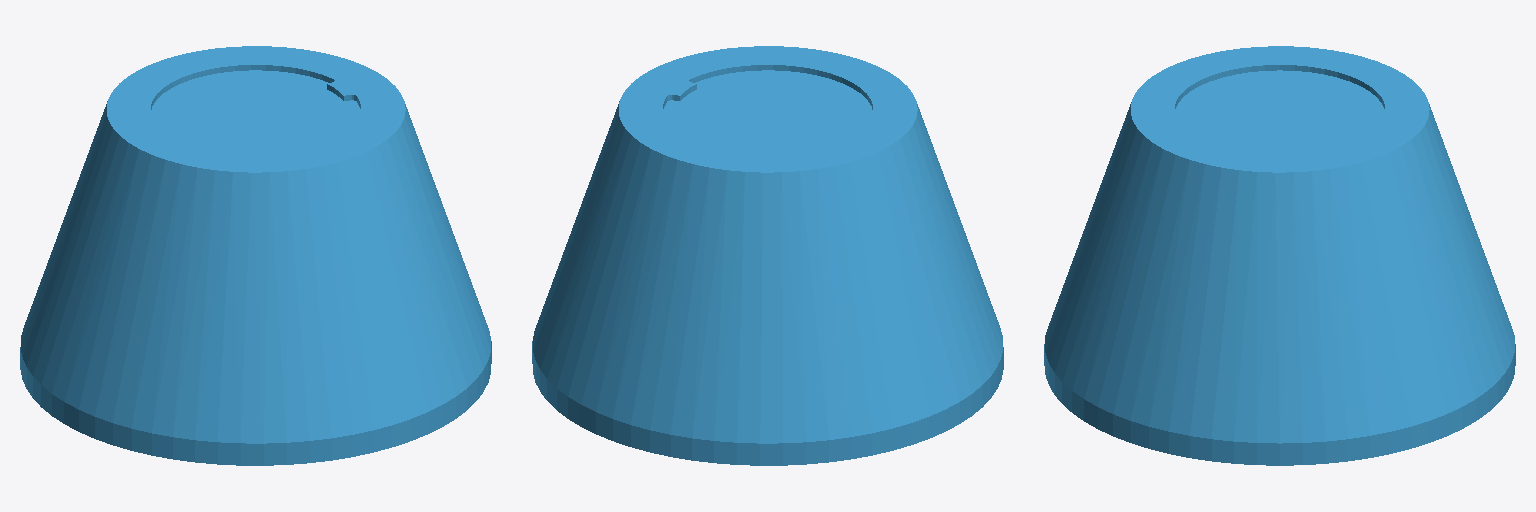
URDF robot description (swingarm_v1):
<?xml version="1.0" ?>
<!-- =================================================================================== -->
<!-- |    This document was autogenerated by xacro from robot.xacro                    | -->
<!-- |    EDITING THIS FILE BY HAND IS NOT RECOMMENDED                                 | -->
<!-- =================================================================================== -->
<robot name="swingarm_v1">
  <link name="world"/>
  <link name="base_link">
    <inertial>
      <origin rpy="0 0 0" xyz="0.00006 -0.000046 0.0129"/>
      <mass value="6.722526"/>
      <inertia ixx="0.049640000000000004" ixy="-6.571312e-06" ixz="-9.063940000000001e-07" iyy="0.03882" iyz="2.1181100000000002e-07" izz="0.08303"/>
    </inertial>
    <visual>
      <origin rpy="0 0 0" xyz="0 0 0"/>
      <geometry>
        <mesh filename="package://swingarm_v1_config/description/meshes/base_link.stl" scale="1 1 1"/>
      </geometry>
    </visual>
    <collision>
      <origin rpy="0 0 0" xyz="0 0 0"/>
      <geometry>
        <mesh filename="package://swingarm_v1_config/description/meshes/base_link.stl" scale="1 1 1"/>
      </geometry>
    </collision>
  </link>
  <link name="link1">
    <inertial>
      <origin rpy="0 0 0" xyz="0.000002 -0.00531 0.034685"/>
      <mass value="1.103721"/>
      <inertia ixx="0.0005726" ixy="-5.4105e-08" ixz="-3.821000000000001e-09" iyy="0.0004953000000000001" iyz="1.2915759e-05" izz="0.0005383"/>
    </inertial>
    <visual>
      <origin rpy="0 0 0" xyz="0 0 0"/>
      <geometry>
        <mesh filename="package://swingarm_v1_config/description/meshes/link1.stl" scale="1 1 1"/>
      </geometry>
    </visual>
    <collision>
      <origin rpy="0 0 0" xyz="0 0 0"/>
      <geometry>
        <mesh filename="package://swingarm_v1_config/description/meshes/link1.stl" scale="1 1 1"/>
      </geometry>
    </collision>
  </link>
  <link name="link2">
    <inertial>
      <origin rpy="0 0 0" xyz="-0.197351 -0.002165 0.000057"/>
      <mass value="0.534276"/>
      <inertia ixx="0.0003837" ixy="-2.6179433000000002e-05" ixz="6.93218e-07" iyy="0.0018880000000000001" iyz="-5.850180000000001e-07" izz="0.00205"/>
    </inertial>
    <visual>
      <origin rpy="0 0 0" xyz="0 0 0"/>
      <geometry>
        <mesh filename="package://swingarm_v1_config/description/meshes/link2.stl" scale="1 1 1"/>
      </geometry>
    </visual>
    <collision>
      <origin rpy="0 0 0" xyz="0 0 0"/>
      <geometry>
        <mesh filename="package://swingarm_v1_config/description/meshes/link2.stl" scale="1 1 1"/>
      </geometry>
    </collision>
  </link>
  <link name="link3">
    <inertial>
      <origin rpy="0 0 0" xyz="0.191296 -0.001405 0.053882"/>
      <mass value="0.474451"/>
      <inertia ixx="0.00032290000000000004" ixy="8.650968000000002e-06" ixz="-0.00023170000000000002" iyy="0.002226" iyz="1.036356e-06" izz="0.002291"/>
    </inertial>
    <visual>
      <origin rpy="0 0 0" xyz="0 0 0"/>
      <geometry>
        <mesh filename="package://swingarm_v1_config/description/meshes/link3.stl" scale="1 1 1"/>
      </geometry>
    </visual>
    <collision>
      <origin rpy="0 0 0" xyz="0 0 0"/>
      <geometry>
        <mesh filename="package://swingarm_v1_config/description/meshes/link3.stl" scale="1 0.8 1"/>
      </geometry>
    </collision>
  </link>
  <link name="link4">
    <inertial>
      <origin rpy="0 0 0" xyz="0.02969 0.00192 0.03765"/>
      <mass value="0.1"/>
      <inertia ixx="1.2622460000000002e-06" ixy="3.261e-08" ixz="-5.533339999999999e-07" iyy="0.0001" iyz="4.118e-08" izz="9.75984e-07"/>
    </inertial>
    <visual>
      <origin rpy="0 0 0" xyz="0 0 0"/>
      <geometry>
        <mesh filename="package://swingarm_v1_config/description/meshes/link4.stl" scale="1 1 1"/>
      </geometry>
    </visual>
    <collision>
      <origin rpy="0 0 0" xyz="0 0 0"/>
      <geometry>
        <mesh filename="package://swingarm_v1_config/description/meshes/link4.stl" scale="1 1 1"/>
      </geometry>
    </collision>
  </link>
  <link name="link5">
    <inertial>
      <origin rpy="0 0 0" xyz="0.001992 -0.000088 -0.053421"/>
      <mass value="0.598593"/>
      <inertia ixx="0.0007354000000000001" ixy="-4.49048e-07" ixz="3.7386443e-05" iyy="0.0007328" iyz="-2.1004300000000002e-07" izz="0.0005"/>
    </inertial>
    <visual>
      <origin rpy="0 0 0" xyz="0 0 0"/>
      <geometry>
        <mesh filename="package://swingarm_v1_config/description/meshes/link5.stl" scale="1 1 1"/>
      </geometry>
    </visual>
    <collision>
      <origin rpy="0 0 0" xyz="0 0 0"/>
      <geometry>
        <mesh filename="package://swingarm_v1_config/description/meshes/link5.stl" scale="1 1 1"/>
      </geometry>
    </collision>
  </link>
  <link name="link6">
    <inertial>
      <origin rpy="0 0 0" xyz="0 0 0"/>
      <mass value="0.5"/>
      <inertia ixx="5e-05" ixy="-1.0680000000000001e-19" ixz="8.357e-08" iyy="8.414108000000002e-06" iyz="0.0" izz="6.931832000000001e-06"/>
    </inertial>
    <visual>
      <origin rpy="0 0 0" xyz="0 0 0"/>
      <geometry>
        <mesh filename="package://swingarm_v1_config/description/meshes/link6.stl" scale="1 1 1"/>
      </geometry>
    </visual>
    <collision>
      <origin rpy="0 0 0" xyz="0 0 0"/>
      <geometry>
        <mesh filename="package://swingarm_v1_config/description/meshes/link6.stl" scale="1 1 1"/>
      </geometry>
    </collision>
  </link>
  <joint name="fixed_world" type="fixed">
    <origin rpy="0 0 0" xyz="0 0 0"/>
    <parent link="world"/>
    <child link="base_link"/>
  </joint>
  <joint name="joint1" type="revolute">
    <origin rpy="0 0 0" xyz="0 0 0.07925"/>
    <parent link="base_link"/>
    <child link="link1"/>
    <axis xyz="0 0 1"/>
    <limit effort="30" lower="-1.57" upper="1.57" velocity="1.5"/>
  </joint>
  <joint name="joint2" type="revolute">
    <origin rpy="0 0 0" xyz="0 0 0.0365"/>
    <parent link="link1"/>
    <child link="link2"/>
    <axis xyz="0 1 0"/>
    <limit effort="30" lower="0" upper="3.14" velocity="1.5"/>
  </joint>
  <joint name="joint3" type="revolute">
    <origin rpy="0 0 0" xyz="-0.220 0 0"/>
    <parent link="link2"/>
    <child link="link3"/>
    <axis xyz="0 1 0"/>
    <limit effort="30" lower="-3.14" upper="0.05" velocity="1.5"/>
  </joint>
  <joint name="joint4" type="revolute">
    <origin rpy="0 0 0" xyz="0.220 0 0.057"/>
    <parent link="link3"/>
    <child link="link4"/>
    <axis xyz="0 1 0"/>
    <limit effort="10" lower="-1.1" upper="0.3" velocity="1.5"/>
  </joint>
  <joint name="joint5" type="revolute">
    <origin rpy="0 0 0" xyz="0.0615 0 0.0825"/>
    <parent link="link4"/>
    <child link="link5"/>
    <axis xyz="0 0 1"/>
    <limit effort="10" lower="-0.785" upper="0.785" velocity="1.5"/>
  </joint>
  <joint name="joint6" type="revolute">
    <origin rpy="0 0 0" xyz="0.0285 0 -0.0825"/>
    <parent link="link5"/>
    <child link="link6"/>
    <axis xyz="1 0 0"/>
    <limit effort="10" lower="-1.57" upper="1.57" velocity="1.5"/>
  </joint>
  <transmission name="joint1_tran">
    <type>transmission_interface/SimpleTransmission</type>
    <joint name="joint1">
      <hardwareInterface>hardware_interface/EffortJointInterface</hardwareInterface>
    </joint>
    <actuator name="joint1_motor">
      <hardwareInterface>hardware_interface/EffortJointInterface</hardwareInterface>
      <mechanicalReduction>1</mechanicalReduction>
    </actuator>
  </transmission>
  <transmission name="joint2_tran">
    <type>transmission_interface/SimpleTransmission</type>
    <joint name="joint2">
      <hardwareInterface>hardware_interface/EffortJointInterface</hardwareInterface>
    </joint>
    <actuator name="joint2_motor">
      <hardwareInterface>hardware_interface/EffortJointInterface</hardwareInterface>
      <mechanicalReduction>-1</mechanicalReduction>
    </actuator>
  </transmission>
  <transmission name="joint3_tran">
    <type>transmission_interface/SimpleTransmission</type>
    <joint name="joint3">
      <hardwareInterface>hardware_interface/EffortJointInterface</hardwareInterface>
    </joint>
    <actuator name="joint3_motor">
      <hardwareInterface>hardware_interface/EffortJointInterface</hardwareInterface>
      <mechanicalReduction>1</mechanicalReduction>
    </actuator>
  </transmission>
  <transmission name="joint4_tran">
    <type>transmission_interface/SimpleTransmission</type>
    <joint name="joint4">
      <hardwareInterface>hardware_interface/EffortJointInterface</hardwareInterface>
    </joint>
    <actuator name="joint4_motor">
      <hardwareInterface>hardware_interface/EffortJointInterface</hardwareInterface>
      <mechanicalReduction>-1</mechanicalReduction>
    </actuator>
  </transmission>
  <transmission name="joint5_tran">
    <type>transmission_interface/SimpleTransmission</type>
    <joint name="joint5">
      <hardwareInterface>hardware_interface/EffortJointInterface</hardwareInterface>
    </joint>
    <actuator name="joint5_motor">
      <hardwareInterface>hardware_interface/EffortJointInterface</hardwareInterface>
      <mechanicalReduction>-1</mechanicalReduction>
    </actuator>
  </transmission>
  <transmission name="joint6_tran">
    <type>transmission_interface/SimpleTransmission</type>
    <joint name="joint6">
      <hardwareInterface>hardware_interface/EffortJointInterface</hardwareInterface>
    </joint>
    <actuator name="joint6_motor">
      <hardwareInterface>hardware_interface/EffortJointInterface</hardwareInterface>
      <mechanicalReduction>1</mechanicalReduction>
    </actuator>
  </transmission>
  <gazebo>
    <plugin filename="libgazebo_ros_control.so" name="gazebo_ros_control">
      <robotNamespace>/</robotNamespace>
    </plugin>
  </gazebo>
</robot>

--- Facts derived from the render (not from the file) ---
The picture shows the robot from 3 angles, left to right: view 1: azimuth 30°, elevation 25°; view 2: azimuth 150°, elevation 25°; view 3: azimuth 270°, elevation 25°; orthographic projection.
Robot: swingarm_v1 — 8 links, 7 joints (6 revolute, 1 fixed); root link world; default pose: every joint at zero.
Links seen in each view (by area): view 1: base_link; view 2: base_link; view 3: base_link.
Link boxes in pixels (x1,y1,x2,y2): base_link: (20,46,491,465); base_link: (532,46,1003,465); base_link: (1044,46,1515,465).
Bounding box of the posed robot: 0.096 × 0.096 × 0.0578 m (x, y, z).
Meshes: 7 distinct files referenced, 1 mesh visuals loaded (1 binary STL); not drawn: 6 (reference not matched to a file when rendering).